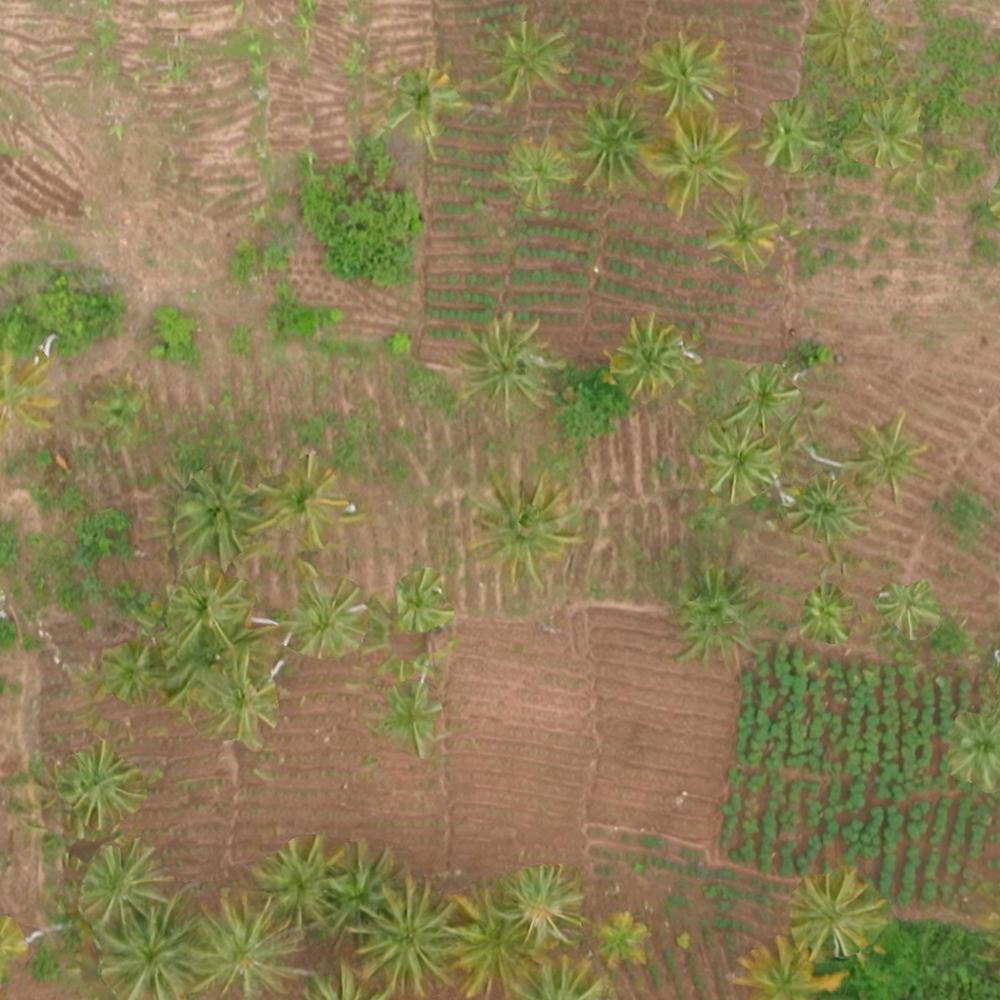Palm: (355, 884, 465, 991), (196, 895, 304, 999), (474, 473, 574, 573), (97, 910, 202, 999), (650, 115, 747, 208), (190, 656, 287, 748), (449, 893, 538, 992), (788, 869, 884, 957), (168, 468, 260, 559), (481, 19, 576, 101), (460, 321, 549, 408), (79, 843, 171, 927), (275, 577, 368, 656), (259, 460, 348, 542), (53, 745, 146, 822), (669, 568, 757, 649), (169, 564, 250, 651), (640, 36, 730, 112), (570, 101, 648, 185), (263, 839, 341, 923), (512, 864, 586, 948), (608, 319, 690, 392), (381, 63, 458, 140), (695, 424, 778, 493), (854, 421, 933, 493), (786, 476, 866, 544), (807, 2, 878, 76), (702, 196, 777, 265), (751, 99, 825, 167), (503, 138, 569, 206), (856, 104, 920, 167), (731, 363, 796, 424), (797, 582, 859, 642), (590, 911, 652, 969), (393, 572, 451, 632), (98, 641, 158, 696), (878, 583, 940, 636)
